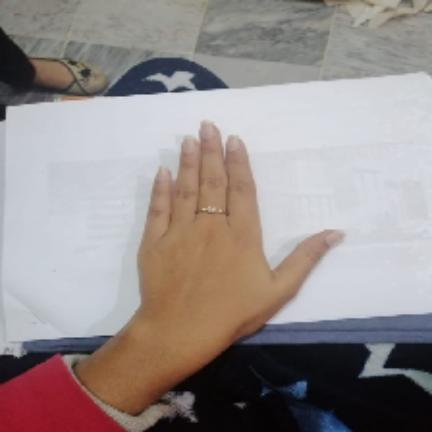Nail: (200, 121, 218, 139), (327, 230, 344, 246), (183, 136, 198, 153), (227, 135, 240, 152), (157, 167, 169, 182)
